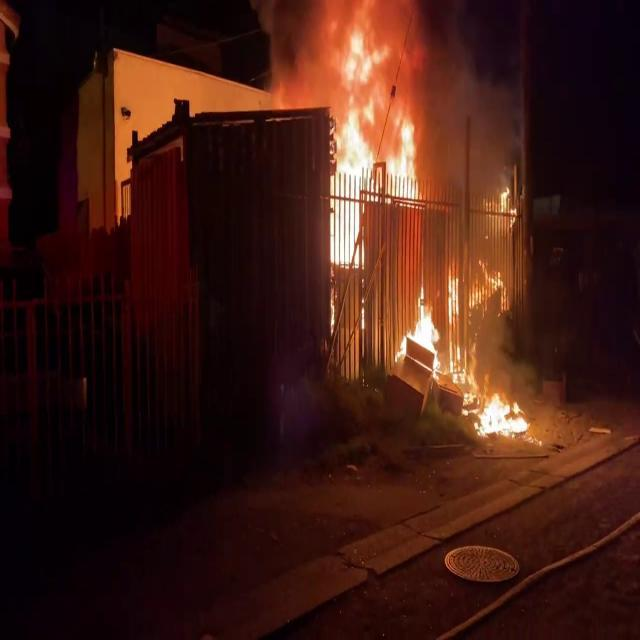Fire: (320, 15, 416, 272), (396, 284, 446, 374), (471, 386, 533, 440)
Smoke: (410, 25, 524, 306)
